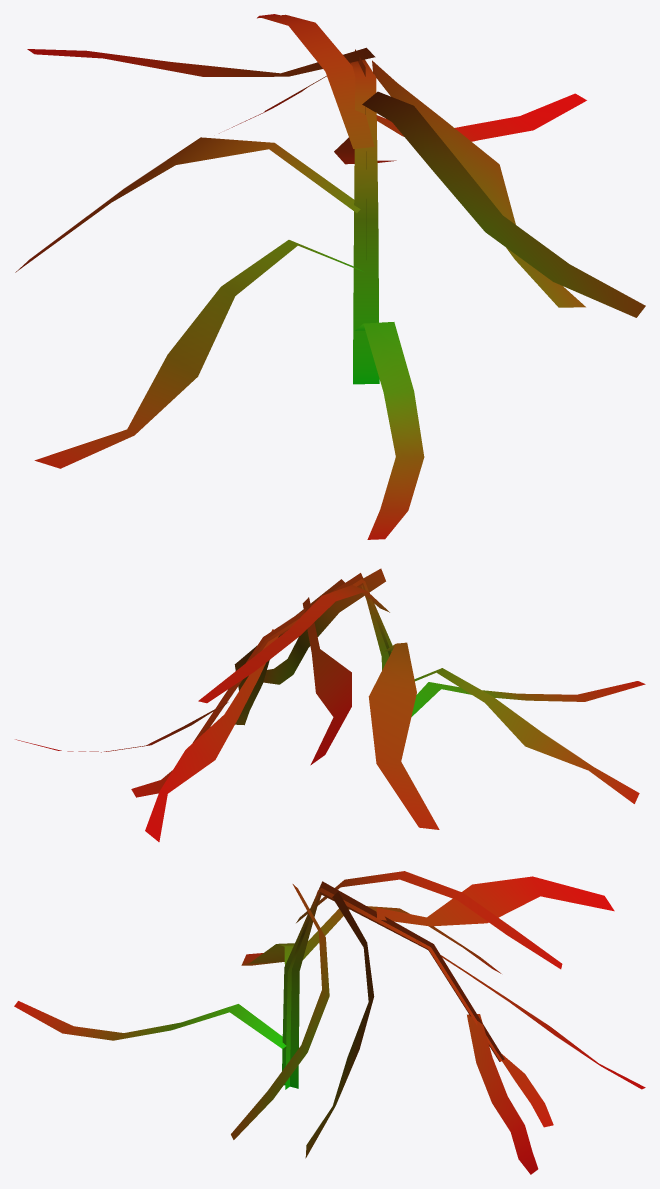
File: Great Brome_LOD3_Var7_tjugaikia.fbx
3 views of the same model, one above another, from view 1: azimuth 30°, elevation 25°; view 2: azimuth 150°, elevation 25°; view 3: azimuth 270°, elevation 25° (orthographic). The views are drawn at different scales.
Parts seen in each view (by area): view 1: _5744_Var7_LOD3; view 2: _5744_Var7_LOD3; view 3: _5744_Var7_LOD3.
Part boxes in pixels (x1,y1,x2,y2): _5744_Var7_LOD3: (15,14,645,539); _5744_Var7_LOD3: (15,568,645,841); _5744_Var7_LOD3: (14,871,645,1174).
Size of the model in its own units: 66.64 by 26.04 by 68.94.
